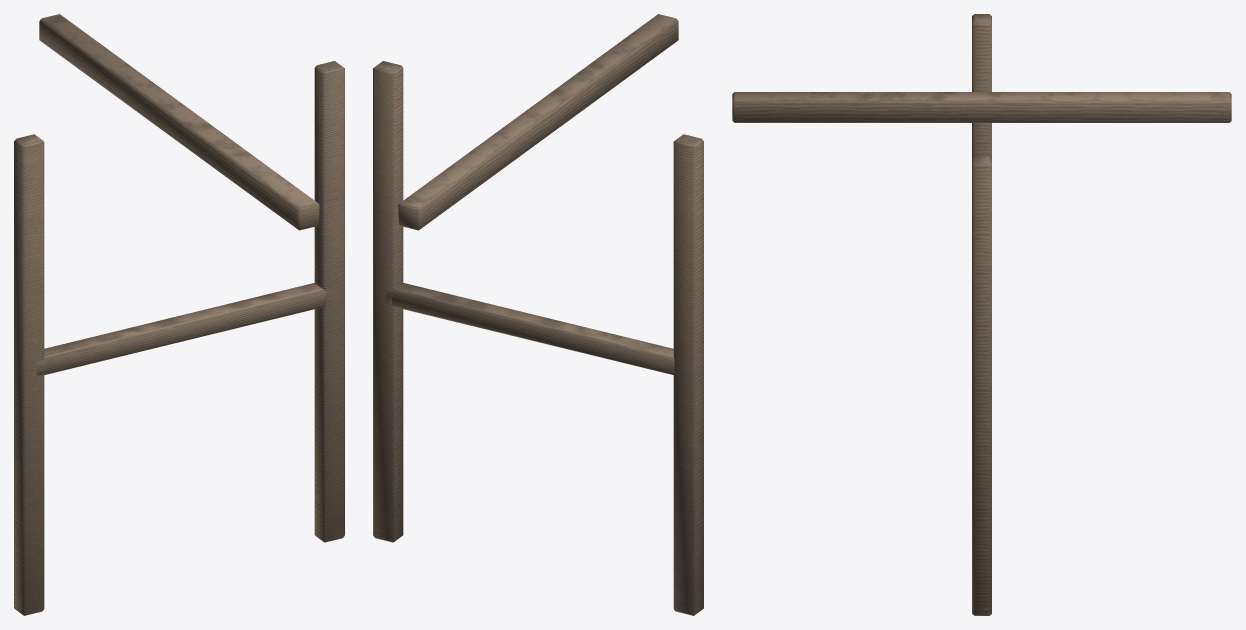
Rendered from rafter-set.glb.
The picture shows the model from 3 angles, left to right: view 1: azimuth 30°, elevation 25°; view 2: azimuth 150°, elevation 25°; view 3: azimuth 270°, elevation 25°; orthographic projection. The views are drawn at different scales.
Visible parts, largest first — view 1: rafter_set; view 2: rafter_set; view 3: rafter_set.
Boxes of the visible parts, left/top/right/bottom form: rafter_set: left=14, top=14, right=344, bottom=615; rafter_set: left=373, top=14, right=703, bottom=615; rafter_set: left=732, top=14, right=1231, bottom=615.
Bounding box in the file's own units: 2.15 × 3 × 3.
1 material, 1 textured.
